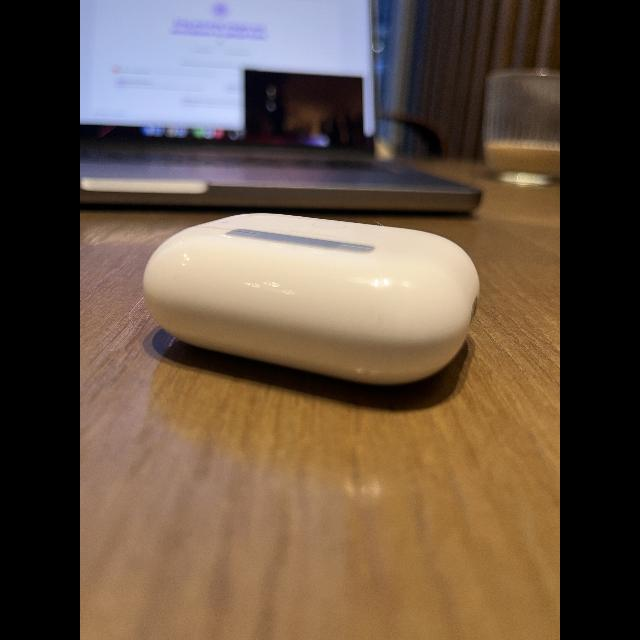AirPods Pro: (137, 205, 481, 412)
